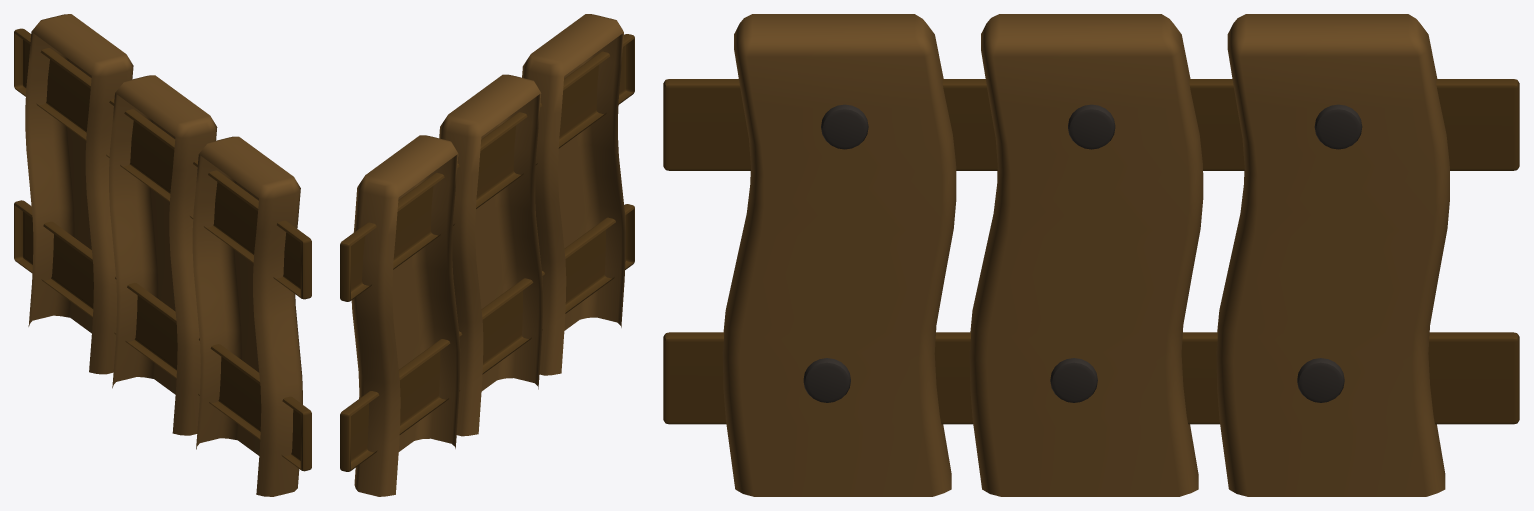
The model's file is M_flip_fence.fbx.
3 views of the same model, side by side, from view 1: azimuth 30°, elevation 25°; view 2: azimuth 150°, elevation 25°; view 3: azimuth 270°, elevation 25° (orthographic). The views are drawn at different scales.
Parts seen in each view (by area): view 1: post (×3), horizPostTop, horizPostBottom; view 2: post (×3), horizPostBottom, horizPostTop; view 3: post (×3), horizPostTop, horizPostBottom, bolt5, bolt4, bolt6, bolt3, bolt1, bolt2.
Part boxes in pixels (x1,y1,x2,y2): post (×3): (25, 14, 302, 496); horizPostTop: (14, 28, 311, 299); horizPostBottom: (14, 200, 311, 471); post (×3): (351, 14, 625, 496); horizPostBottom: (340, 204, 634, 471); horizPostTop: (340, 34, 634, 301); post (×3): (722, 14, 1449, 496); horizPostTop: (663, 79, 1519, 170); horizPostBottom: (663, 332, 1519, 424); bolt5: (1314, 104, 1362, 149); bolt4: (1050, 358, 1097, 402); bolt6: (1297, 358, 1344, 402); bolt3: (1068, 104, 1115, 149); bolt1: (821, 104, 868, 149); bolt2: (803, 358, 850, 402).
Bounding box in the file's own units: 4.35 × 27.2 × 46.23.
